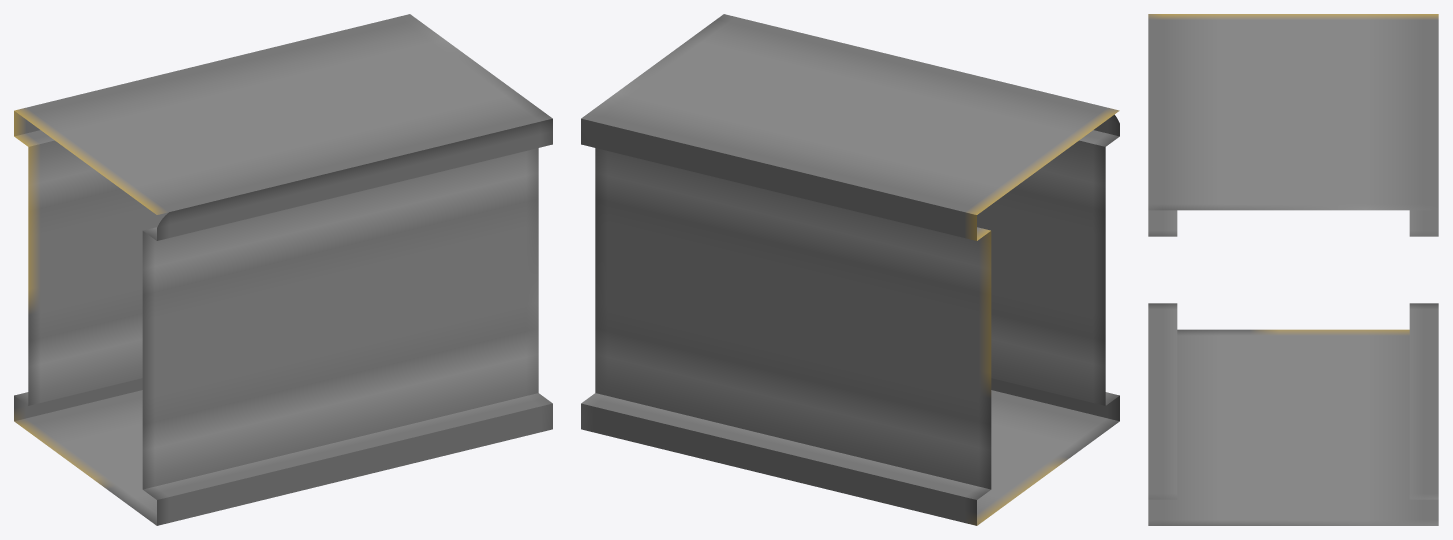
File: crane_girder.obj
3 views of the same model, side by side, from view 1: azimuth 30°, elevation 25°; view 2: azimuth 150°, elevation 25°; view 3: azimuth 270°, elevation 25° (orthographic).
Visible parts, largest first — view 1: Girder; view 2: Girder; view 3: Girder.
Part boxes in pixels (left/top/right/bottom): Girder: left=14, top=14, right=552, bottom=525; Girder: left=581, top=14, right=1119, bottom=525; Girder: left=1148, top=14, right=1438, bottom=525.
Bounding box in the file's own units: 1 × 0.75 × 0.625.
